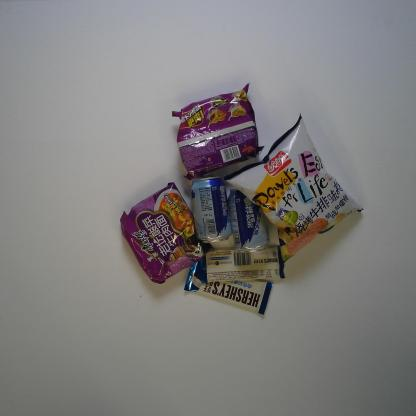Alcohol: (225, 186, 270, 251), (191, 176, 232, 243)
Chocolate: (182, 261, 274, 319), (202, 245, 288, 285)
Instant Noodles: (170, 80, 265, 180), (117, 181, 206, 286)
Puffed Food: (223, 109, 364, 264)
